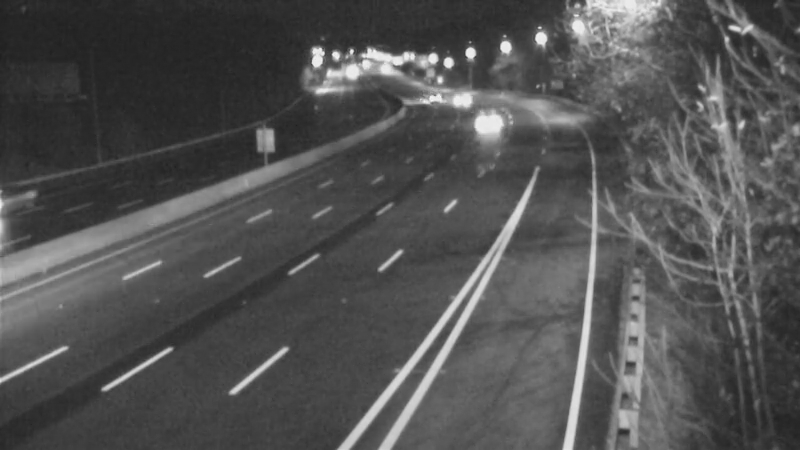vehicle: (1, 158, 66, 238), (358, 44, 408, 94), (410, 72, 460, 122), (435, 73, 485, 123), (462, 96, 512, 146)
